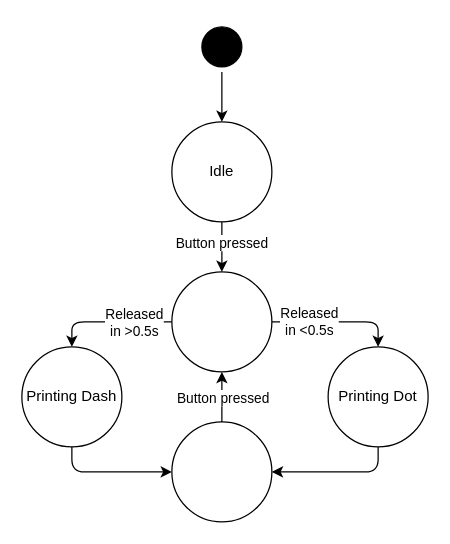
Some shapes in this 450 by 544 pixel diagram are drawn without their labels. Here are the shapes that lost their labels. From the top down, the centre of each, then its label:
At point 221,321: "Button Down".
At point 221,471: "Button Up".
